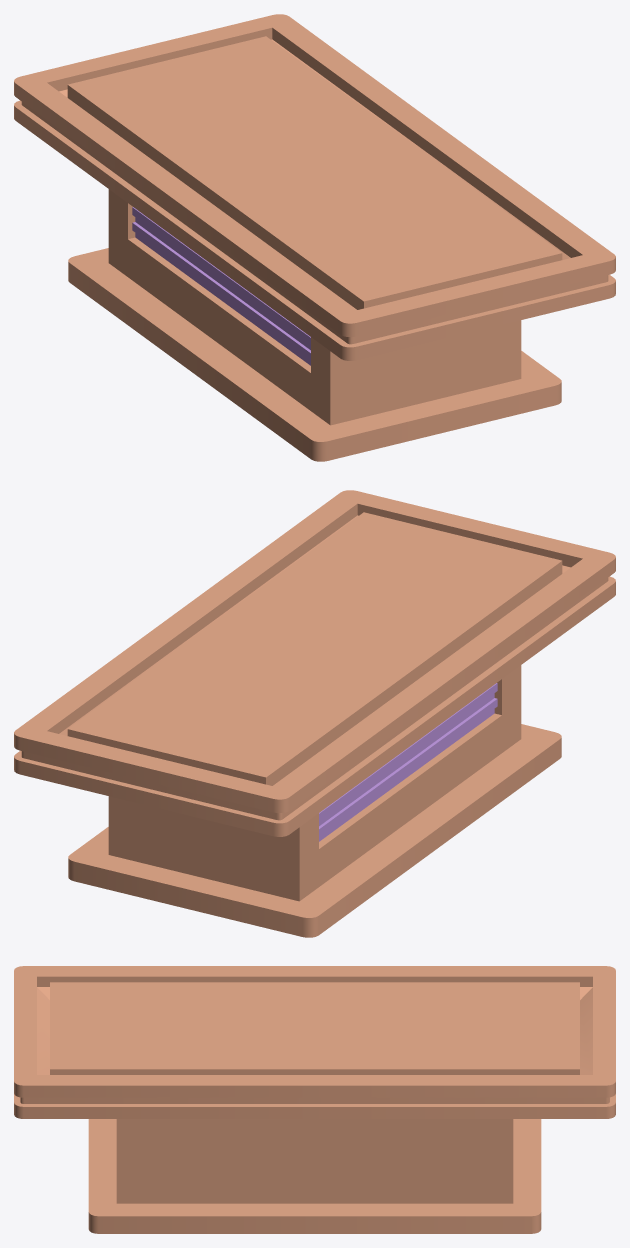
File: Mesa.fbx
3 views of the same model, one above another, from view 1: azimuth 30°, elevation 25°; view 2: azimuth 150°, elevation 25°; view 3: azimuth 270°, elevation 25° (orthographic). The views are drawn at different scales.
Visible parts, largest first — view 1: Plane.006, Plane.007; view 2: Plane.006, Plane.007; view 3: Plane.006.
Part boxes in pixels (bbox=[...]): Plane.006: bbox=[14, 14, 615, 461]; Plane.007: bbox=[132, 207, 310, 365]; Plane.006: bbox=[14, 490, 615, 937]; Plane.007: bbox=[319, 683, 497, 841]; Plane.006: bbox=[14, 966, 615, 1233].
Size of the model in its own units: 148 by 88.89 by 315.
